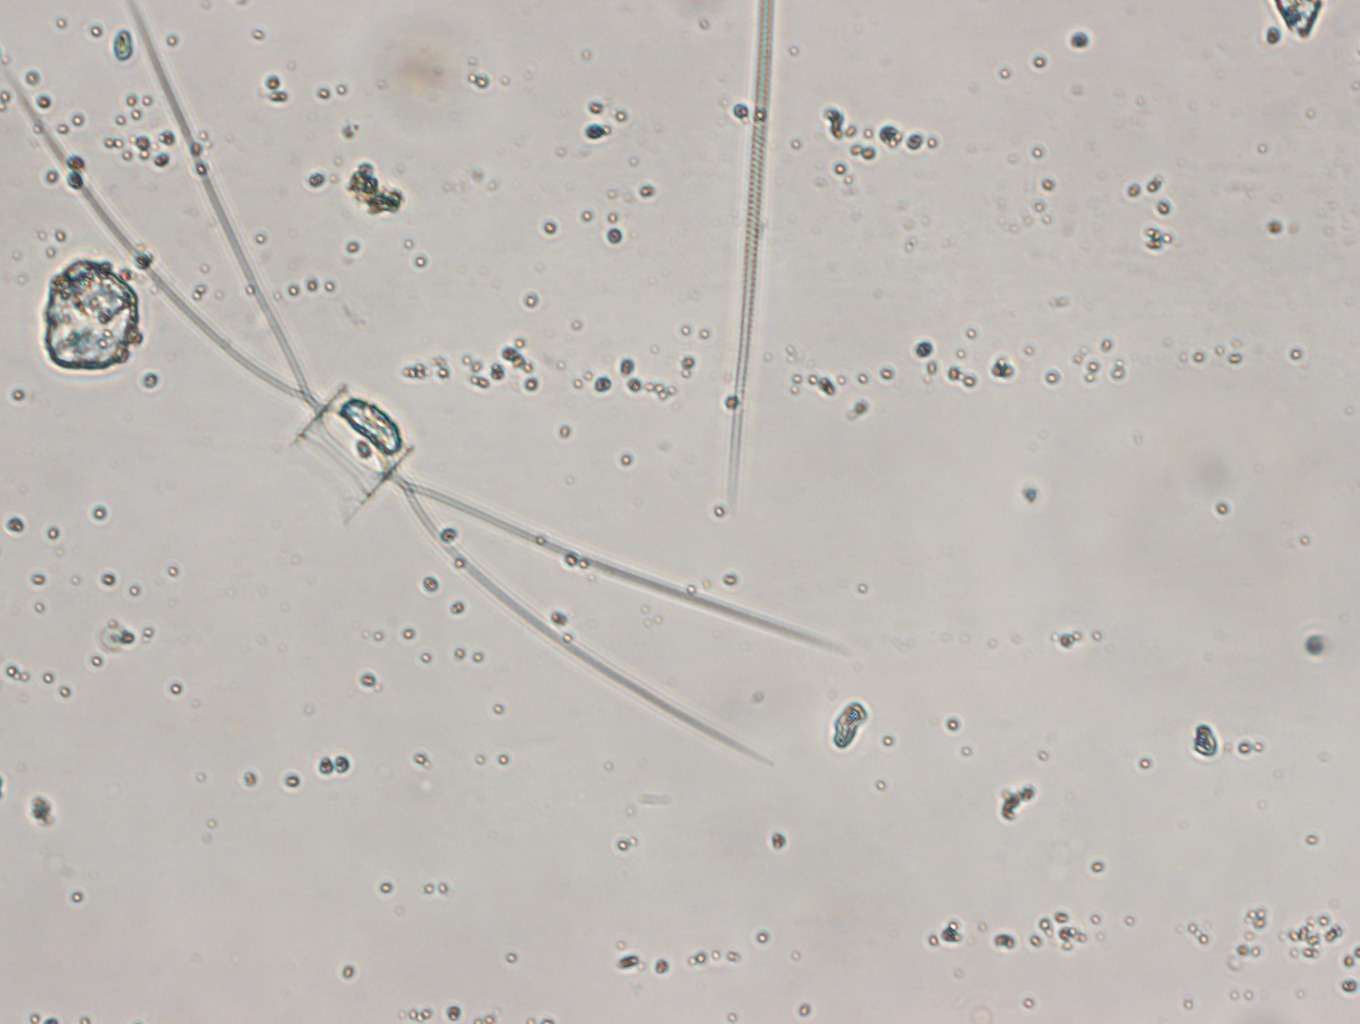chaetoceros: (13, 15, 812, 746)
